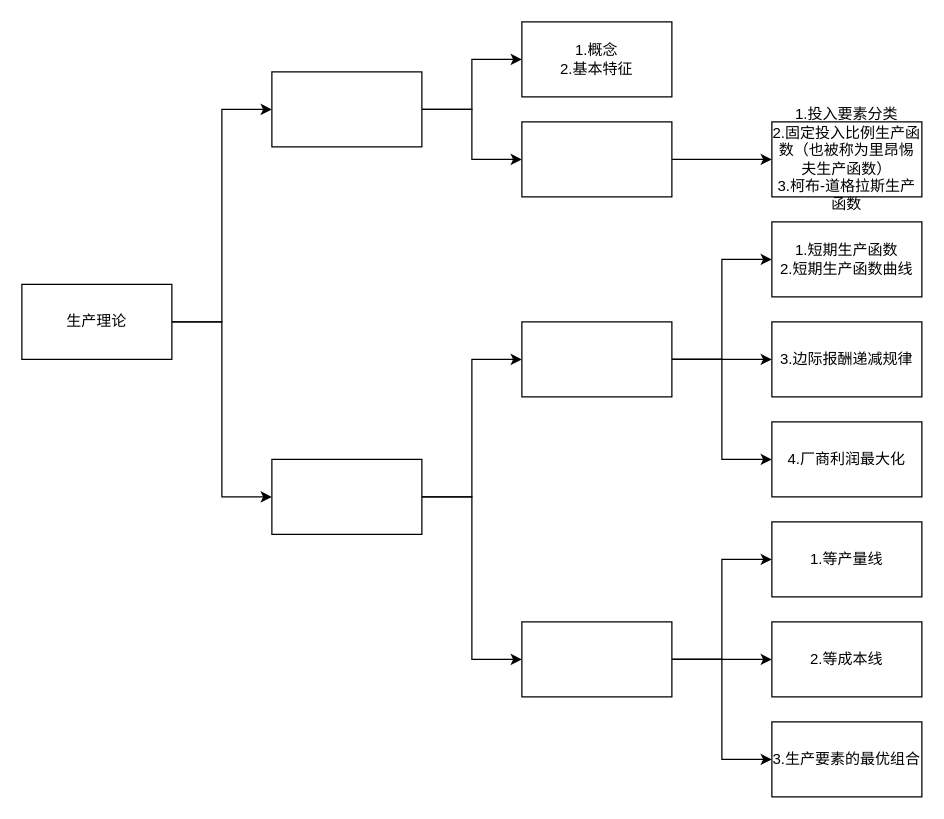
Image size: 944x819. Some labels were removed from this diagram. The centre of each missing label's shape, as x and y in pixels:
1.生产函数: point (346, 109)
1.短期生产: point (596, 359)
2.生产理论分析中的两个时期: point (346, 496)
2.（长期生产）多种投入要素的最优组合: point (596, 659)
3.生产函数的类型: point (596, 159)
